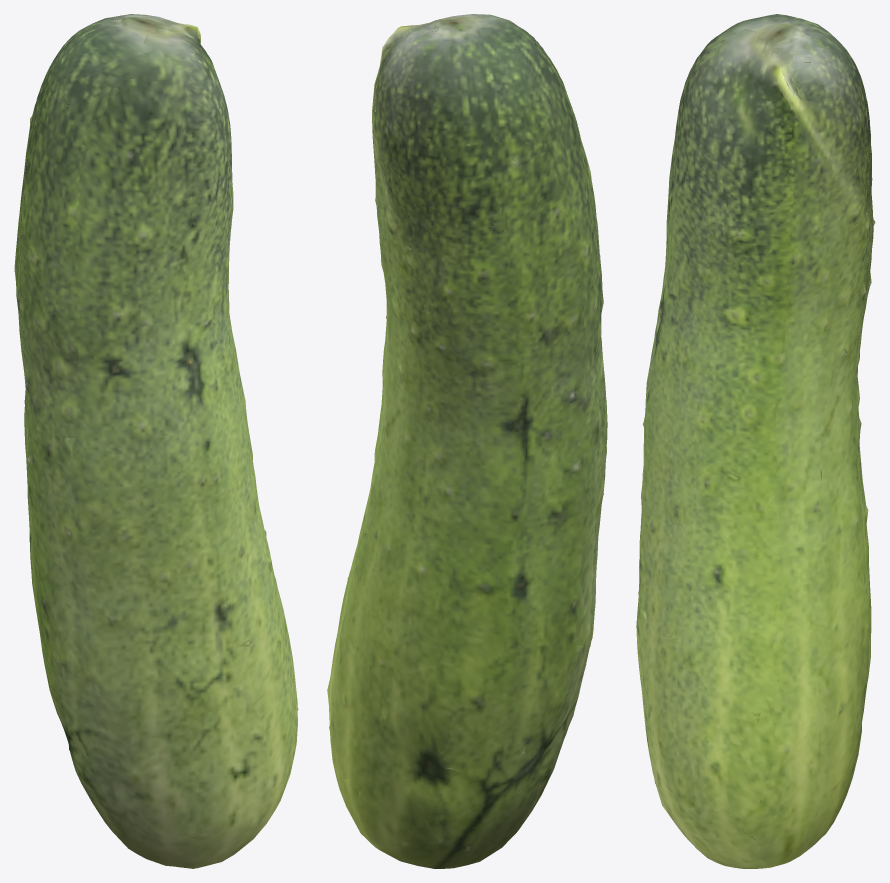
File: gurka.glb
3 views of the same model, side by side, from view 1: azimuth 30°, elevation 25°; view 2: azimuth 150°, elevation 25°; view 3: azimuth 270°, elevation 25° (orthographic). The views are drawn at different scales.
Parts seen in each view (by area): view 1: Stereo textured mesh; view 2: Stereo textured mesh; view 3: Stereo textured mesh.
Boxes of the visible parts, x1,y1,x2,y2 form: Stereo textured mesh: (14, 14, 298, 868); Stereo textured mesh: (327, 14, 607, 868); Stereo textured mesh: (636, 14, 875, 868).
Size of the model in its own units: 0.1068 by 0.3434 by 0.092.
Materials: 1 (1 with a texture image).
